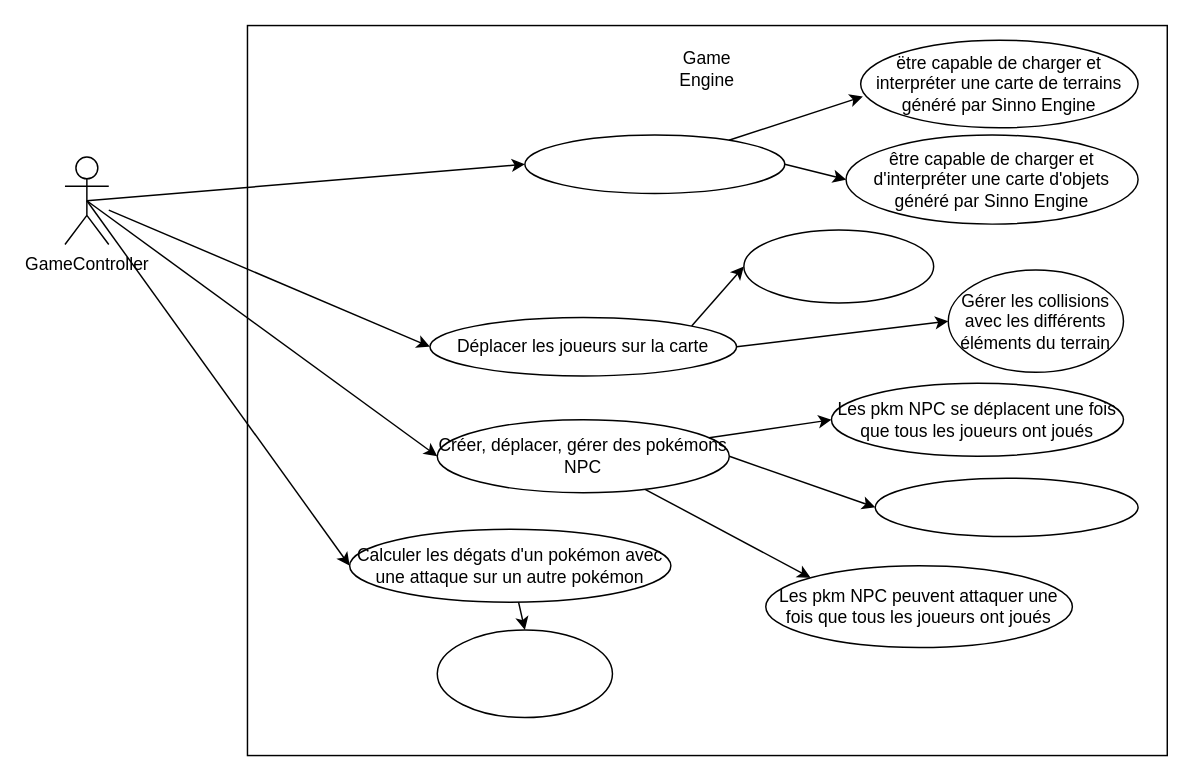
The diagram is 1193 pixels wide and 781 high, and some of its shapes have lost their labels. The shapes that lost their labels are listed below. From the top down, each one's box as (x1, y1, x2, y2) in pixels, then its label:
(523, 134, 785, 193): Charger une carte
(742, 228, 934, 303): gestion des collisions entre joueurs.NPC
(874, 477, 1138, 537): les pkm NPC peuvent prendre des objets
(436, 629, 612, 718): Gestion des statistiques, talents types, statuts
